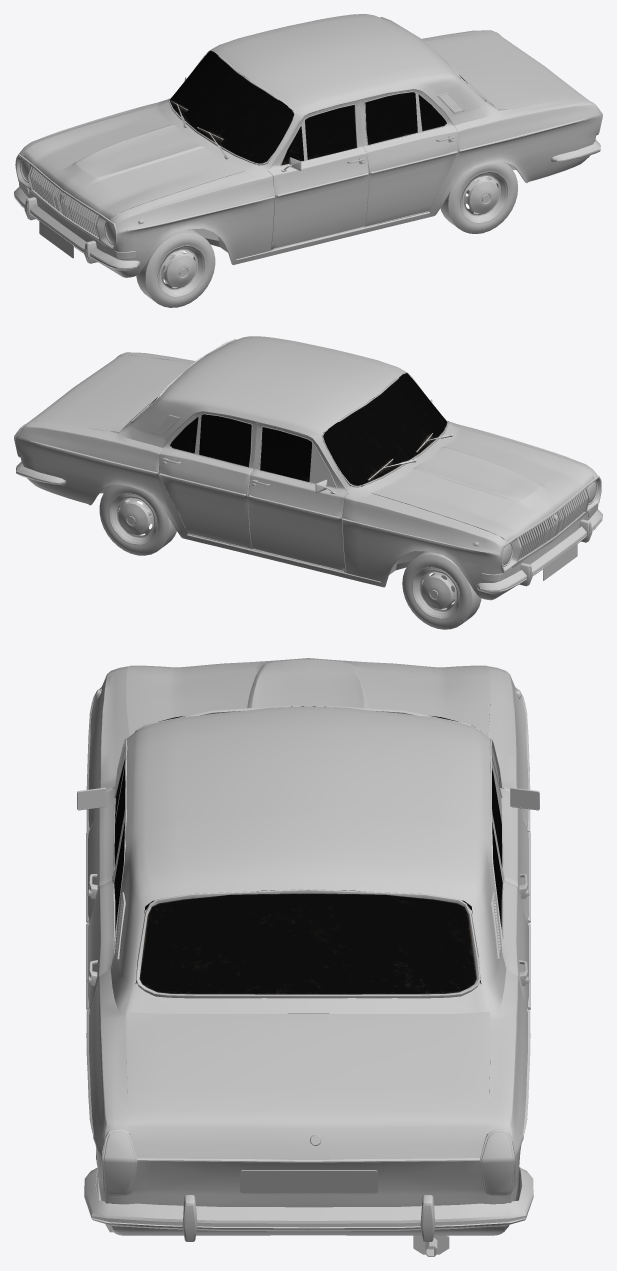
The model's file is car2.fbx.
3 renders of one model, top to bottom at view 1: azimuth 30°, elevation 25°; view 2: azimuth 150°, elevation 25°; view 3: azimuth 270°, elevation 25°, orthographic. The views are drawn at different scales.
Visible parts, largest first — view 1: car2_LOD0; view 2: car2_LOD0; view 3: car2_LOD0.
Part boxes in pixels (<box>): car2_LOD0: <box>14,14,602,307</box>; car2_LOD0: <box>14,336,602,629</box>; car2_LOD0: <box>77,658,539,1256</box>.
Size of what is drawn, in the model's own units: 461 by 152 by 184.
